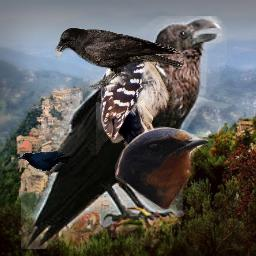Crow: (21, 16, 227, 249), (53, 27, 183, 90), (16, 151, 71, 171)
Swallow: (115, 126, 212, 210)
Woodpecker: (96, 39, 188, 177)
